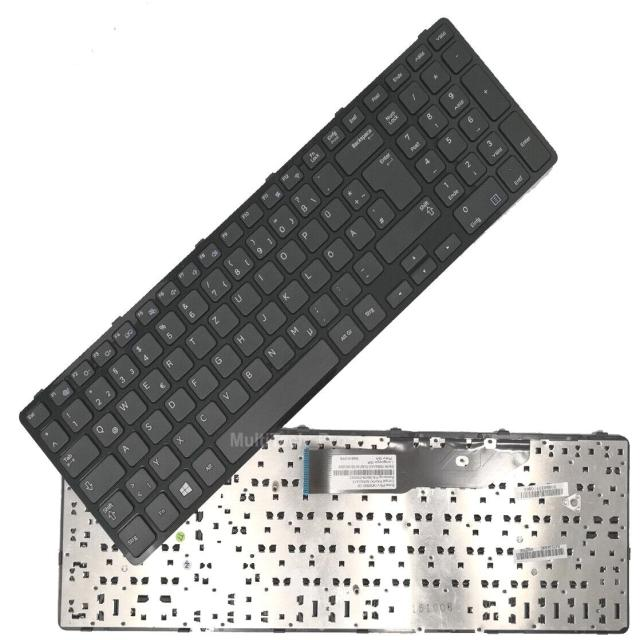0: (267, 200, 298, 236)
1: (59, 395, 92, 431)
2: (82, 372, 115, 408)
3: (106, 350, 140, 386)
4: (129, 329, 162, 364)
5: (152, 307, 185, 342)
6: (176, 286, 208, 321)
7: (200, 264, 231, 298)
8: (222, 243, 254, 278)
9: (244, 221, 276, 257)
a: (115, 428, 148, 464)
accent: (311, 158, 343, 193)
ae: (343, 213, 374, 248)
alt-left: (193, 448, 225, 485)
altgr-right: (326, 312, 364, 353)
b: (239, 354, 271, 390)
c: (193, 398, 227, 435)
caret: (38, 417, 68, 451)
comma: (307, 290, 339, 325)
d: (162, 385, 195, 421)
del: (333, 121, 384, 172)
e: (136, 365, 171, 401)
enter: (361, 147, 421, 208)
f: (185, 362, 218, 398)
g: (208, 340, 241, 377)
h: (230, 319, 263, 354)
hash: (364, 195, 394, 228)
i: (251, 258, 284, 292)
j: (254, 297, 286, 333)
k: (276, 276, 308, 312)
keyboard: (13, 6, 562, 570)
l: (299, 255, 331, 291)
less: (123, 464, 156, 501)
m: (284, 312, 318, 347)
minus: (352, 248, 383, 283)
n: (262, 333, 294, 369)
o: (273, 236, 306, 271)
oe: (321, 234, 353, 270)
p: (296, 215, 329, 251)
plus: (340, 175, 370, 208)
point: (329, 270, 361, 304)
q: (89, 409, 123, 446)
r: (158, 344, 193, 380)
s: (138, 407, 172, 443)
shift-left: (95, 488, 133, 527)
shift-lock: (76, 452, 125, 503)
shift-right: (375, 196, 442, 263)
space: (214, 336, 343, 464)
ss: (289, 180, 320, 214)
strg-left: (116, 511, 156, 556)
strg-right: (351, 291, 385, 329)
t: (183, 322, 217, 358)
tab: (56, 431, 99, 476)
u: (229, 279, 262, 315)
ue: (317, 194, 350, 230)
v: (216, 376, 249, 412)
w: (113, 387, 146, 423)
x: (170, 420, 203, 456)
y: (147, 442, 180, 479)
z: (206, 299, 239, 335)
